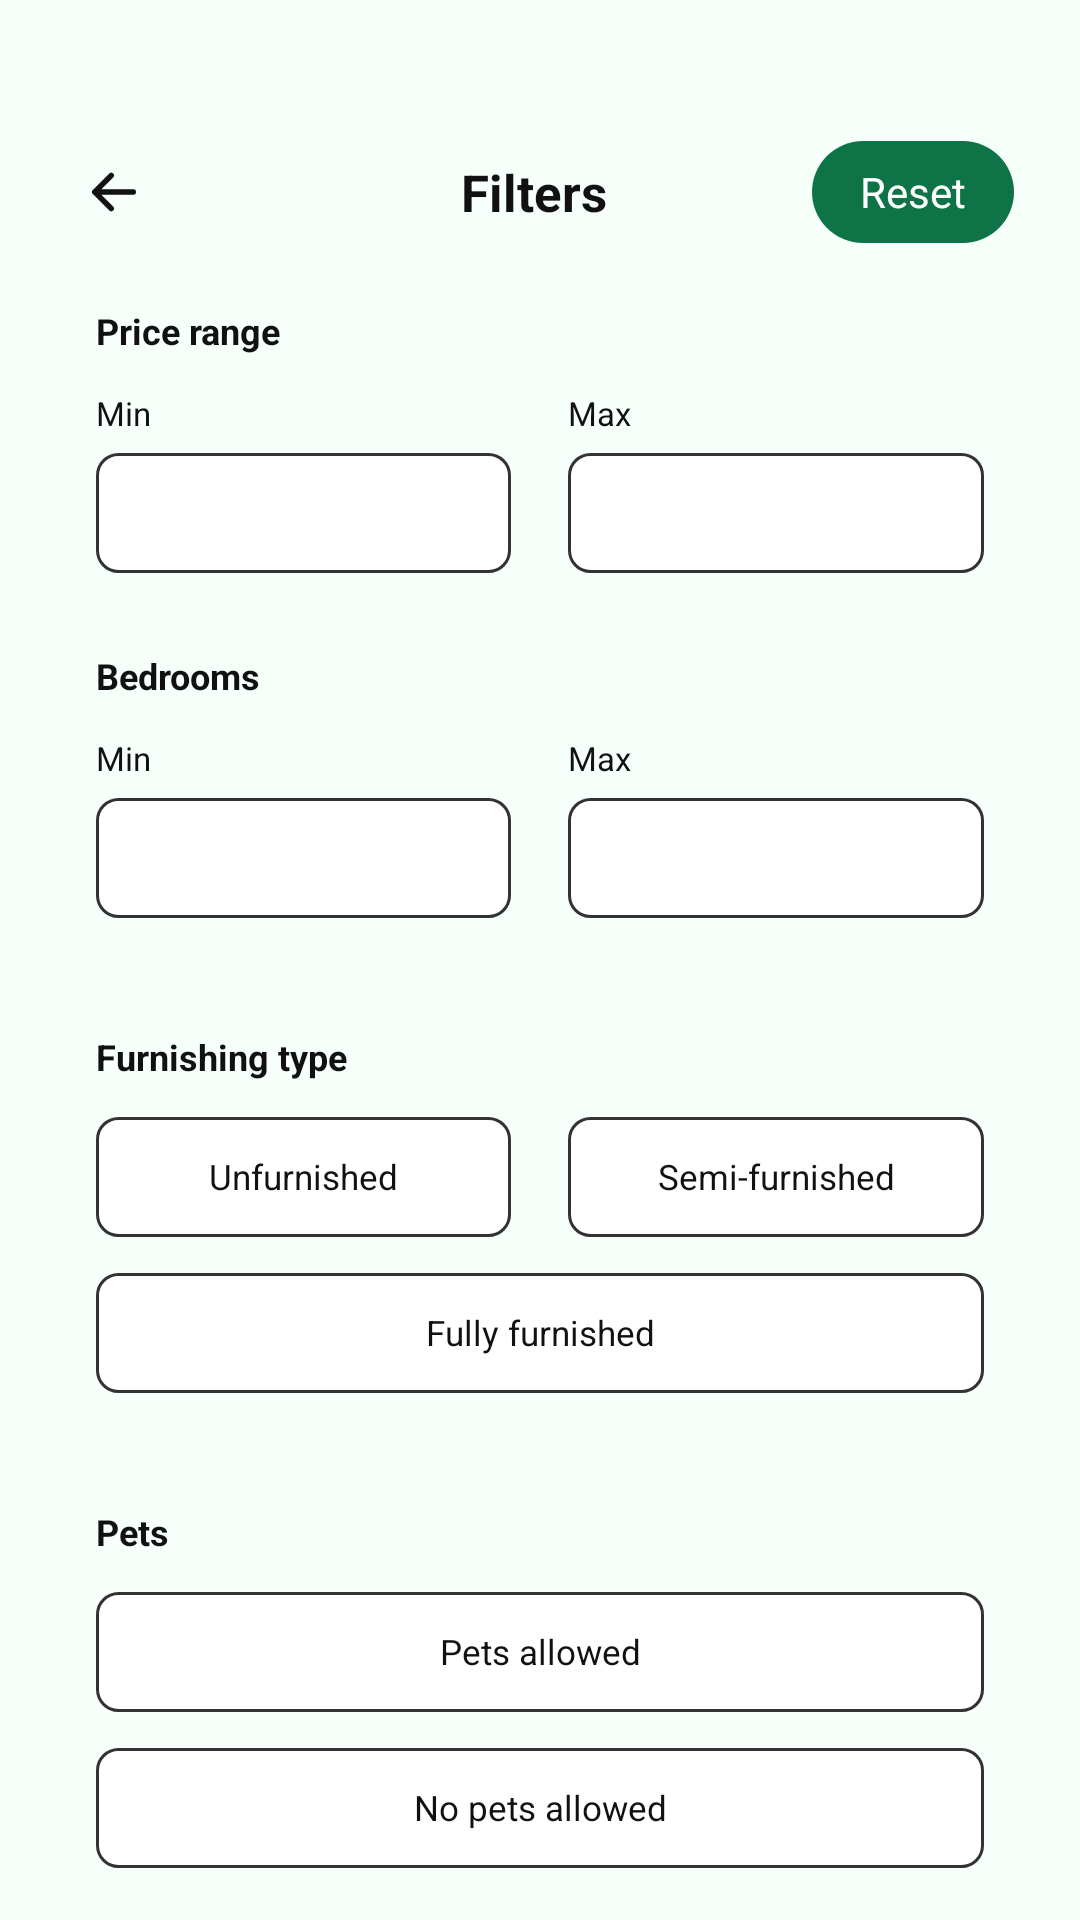

Screen size 1080w x 1920h. Icon name, then its box in pixels as (left=x1, top=y1, right=x2, bottom=y2):
Back: (left=92, top=172, right=136, bottom=212)
